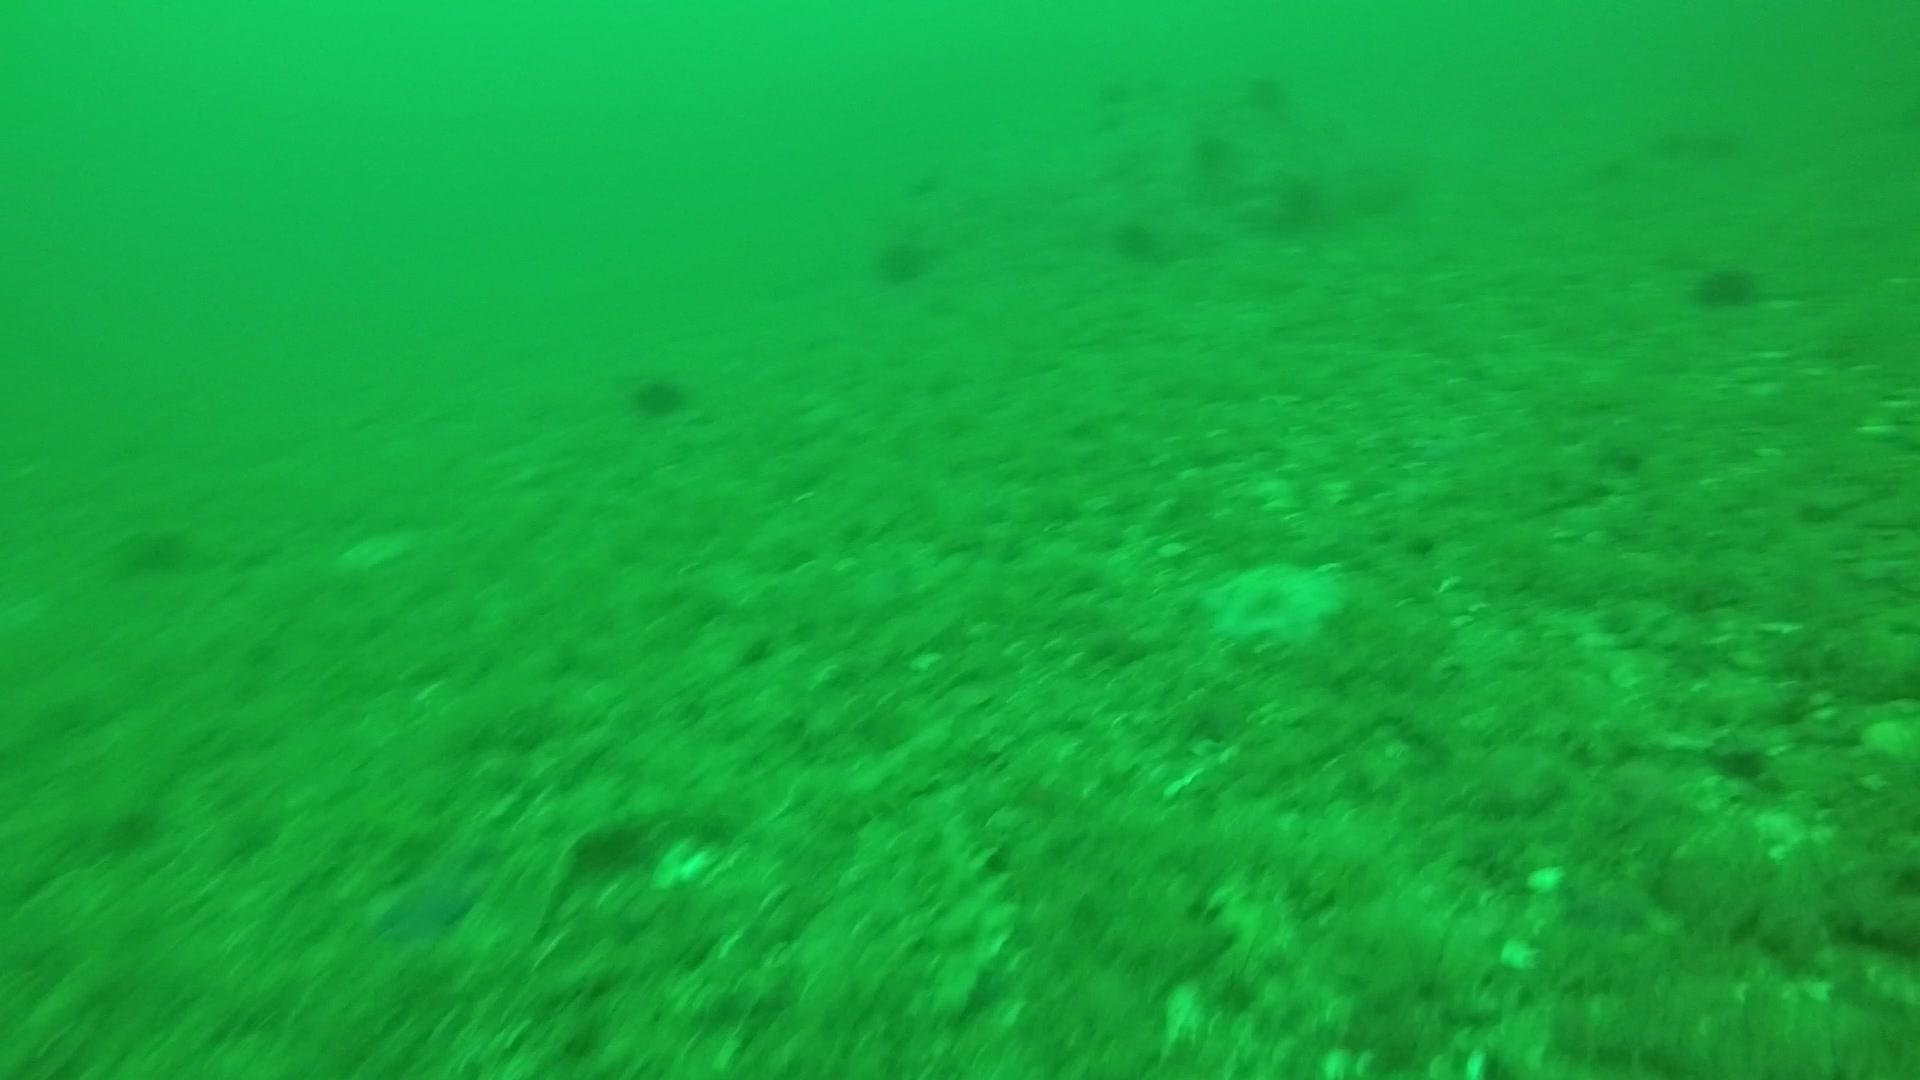echinus: (112, 514, 198, 580), (1651, 107, 1747, 164), (1262, 167, 1331, 237), (1687, 256, 1764, 315), (870, 227, 938, 287), (626, 365, 694, 423), (1106, 211, 1168, 266), (1185, 125, 1238, 175), (1241, 65, 1294, 113), (1095, 75, 1139, 113), (897, 164, 943, 200)
starfish: (1193, 549, 1354, 655), (364, 852, 484, 949)
